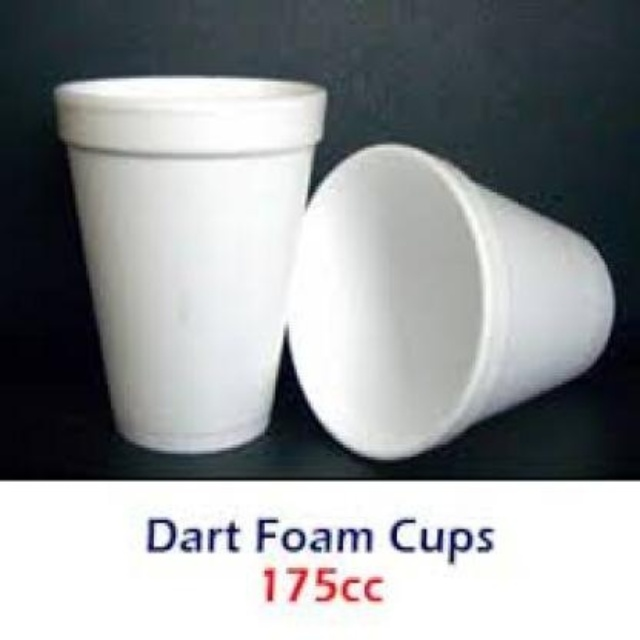trash: (288, 145, 612, 458), (55, 77, 325, 451)
